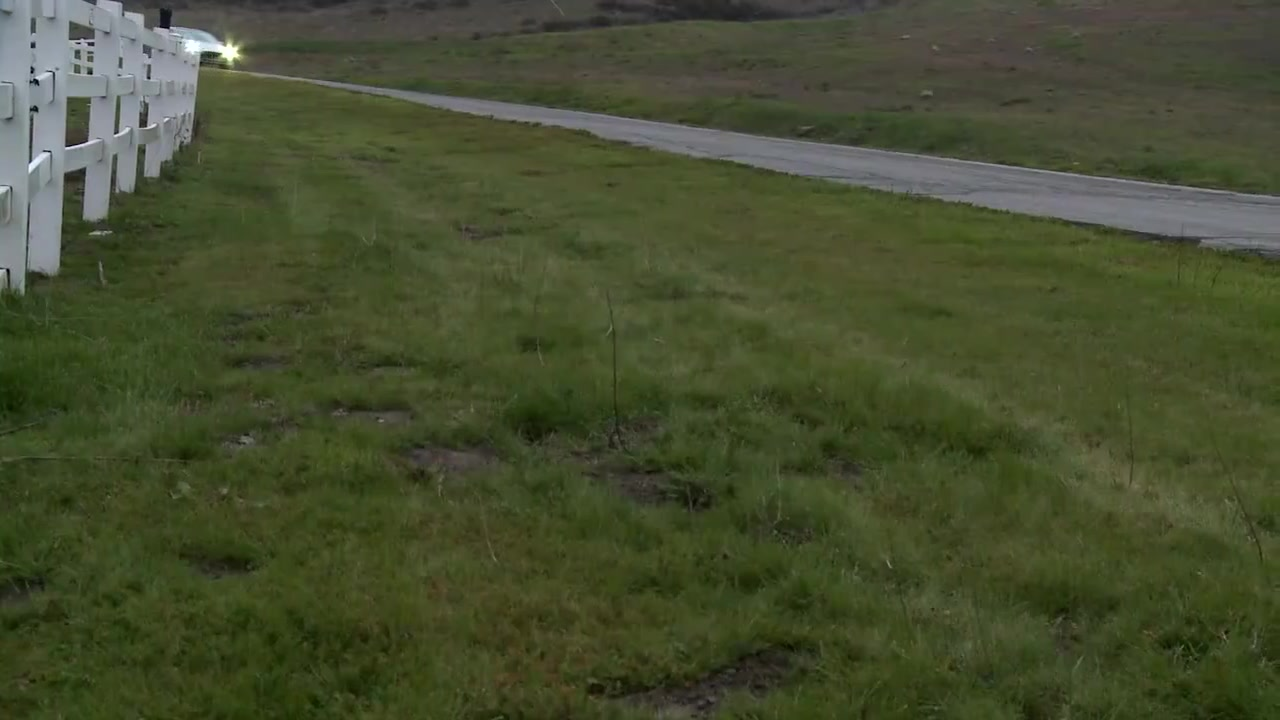car: (162, 20, 239, 72)
